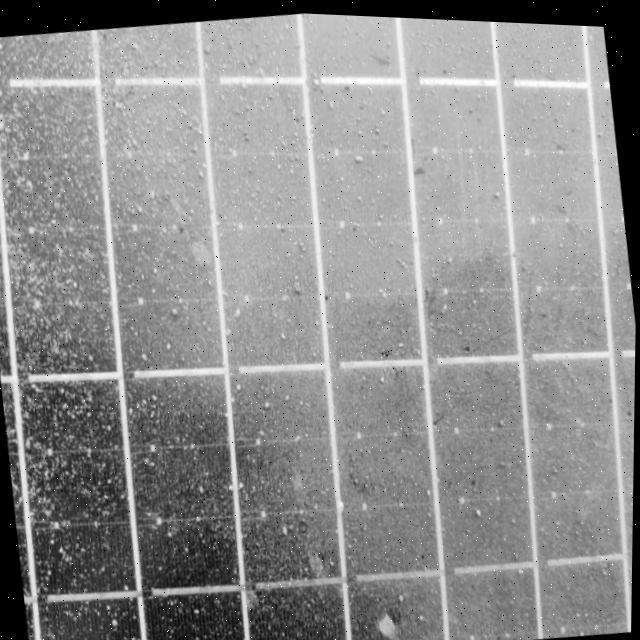Surface Contaminant: (0, 15, 634, 640)
